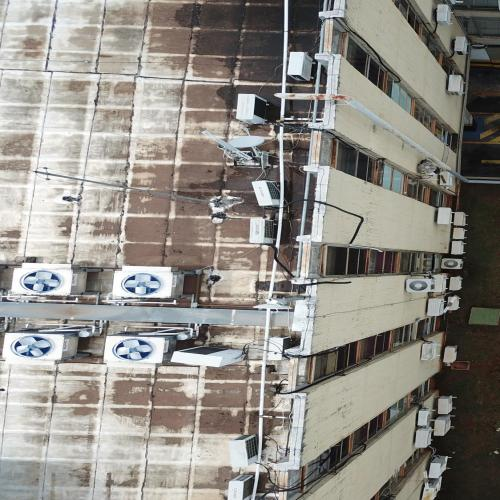conde: (105, 265, 206, 305), (1, 327, 95, 365), (90, 331, 192, 366), (9, 264, 92, 300), (170, 344, 254, 370), (234, 93, 276, 126), (229, 433, 264, 471), (249, 179, 287, 210), (262, 336, 301, 364), (283, 51, 316, 84), (247, 217, 281, 248), (226, 474, 263, 500)
